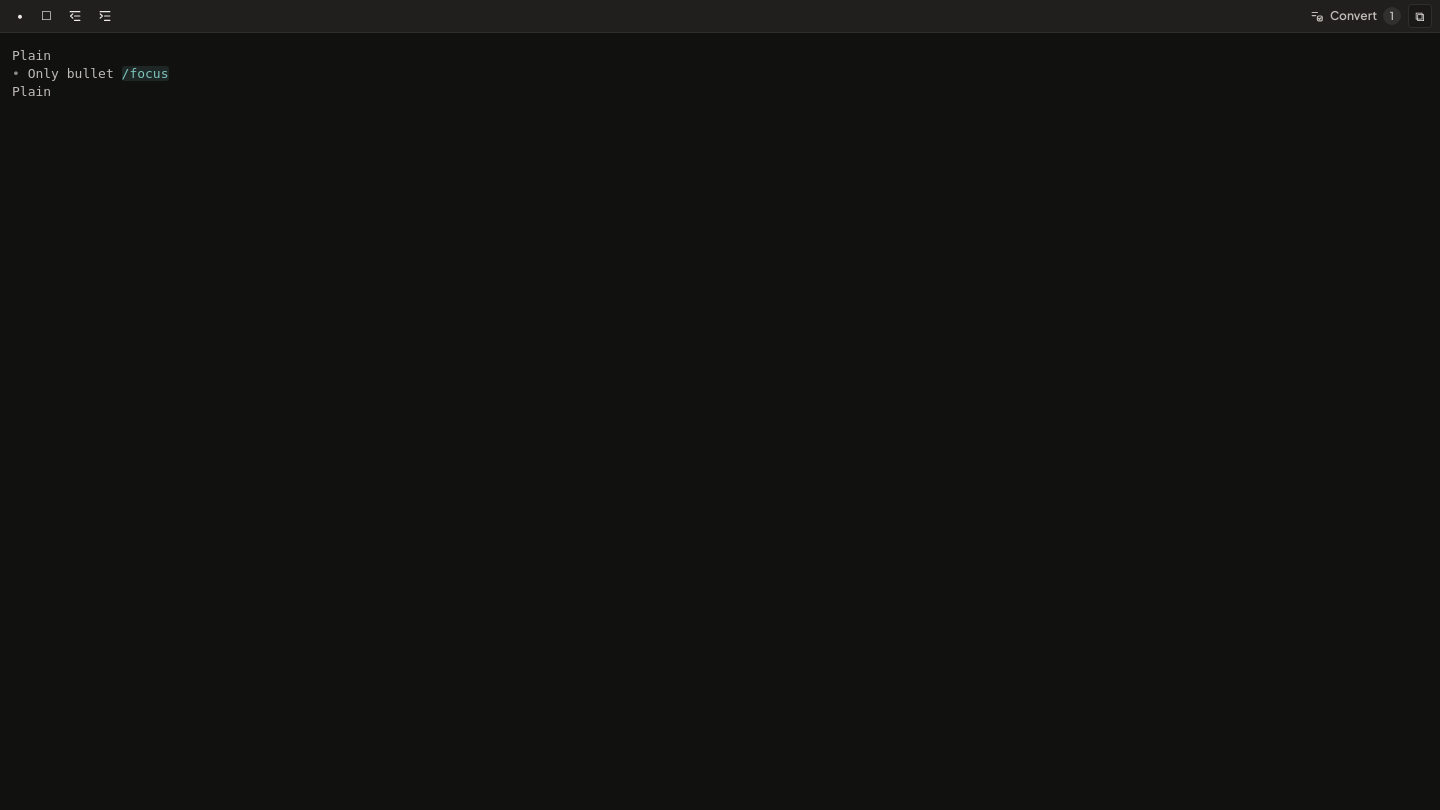
Test: Alt+T: one line through Quick Add › a Convert scope of exactly one line opens Quick Add too
What coordinates should you click on to do the following:
click the button with aria-label "Convert 1 bullet line to tasks"
I would click on:
 (1354, 16)
Its box is [1303,4,1406,28].
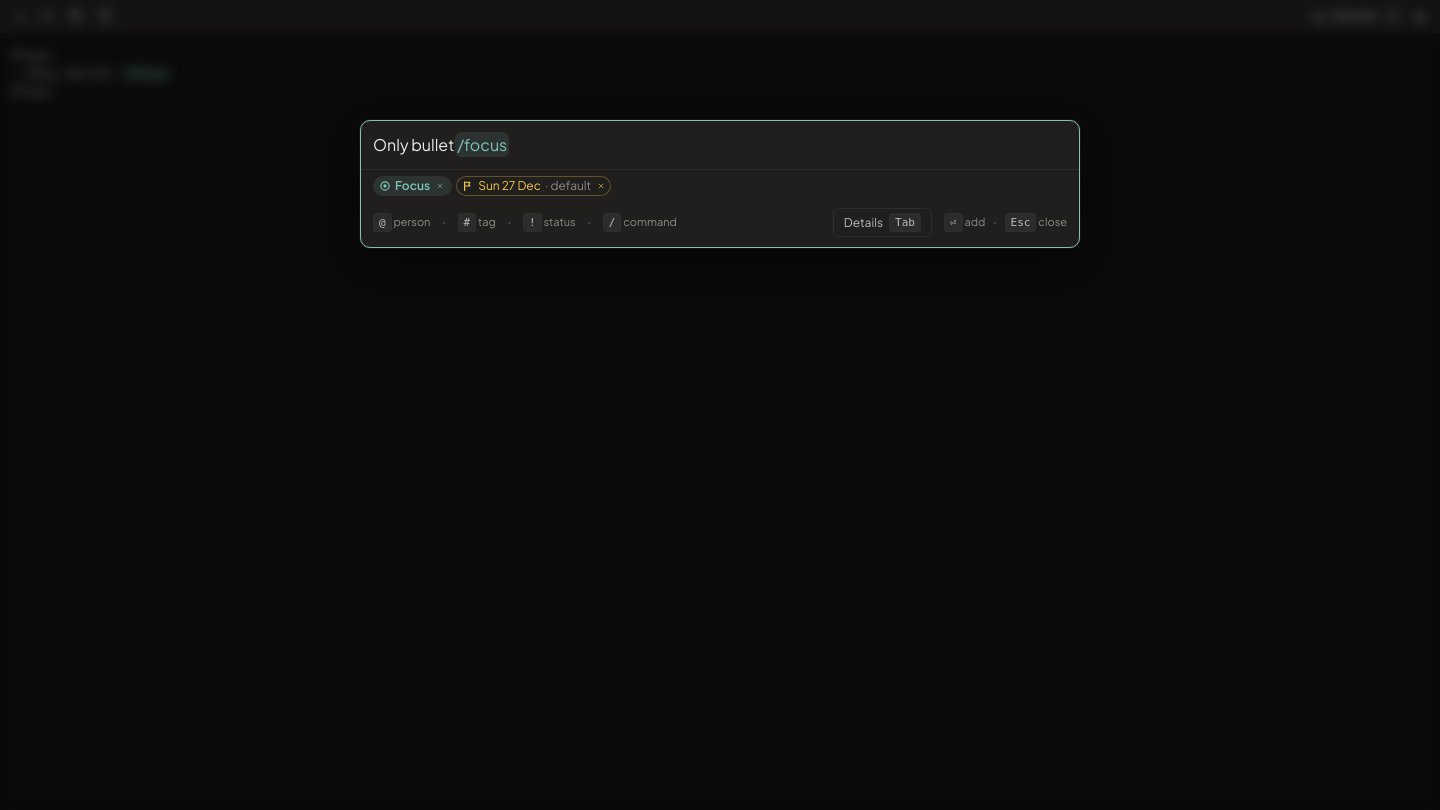
Expected: the text box showing "Only bullet /focus" is shown, [373,131,1067,159]
